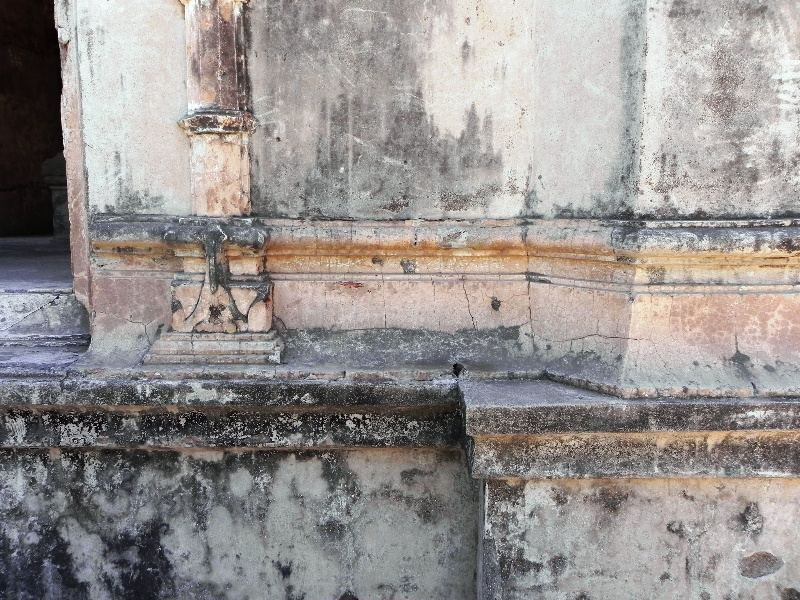Crack: (546, 326, 611, 347), (457, 276, 479, 324)
